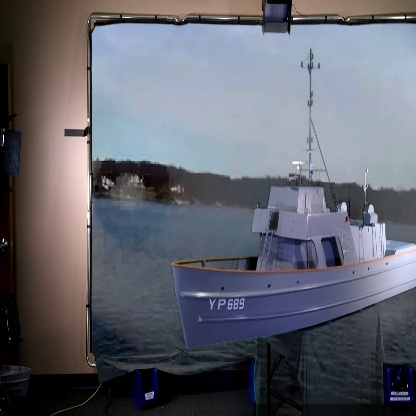YP689: (171, 56, 416, 351)
